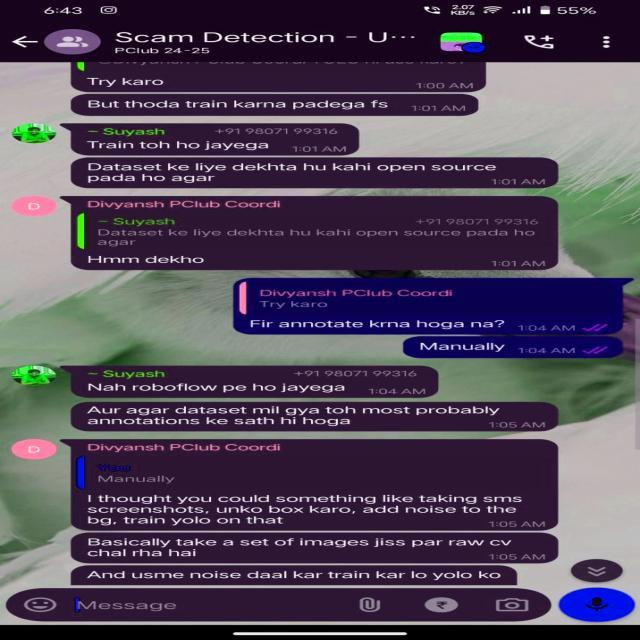scam: (81, 491, 537, 528), (79, 533, 547, 562), (77, 404, 518, 432), (79, 566, 513, 590), (80, 161, 532, 181), (81, 378, 371, 398), (82, 96, 402, 112), (77, 136, 287, 151), (75, 248, 228, 266), (82, 72, 198, 90)
